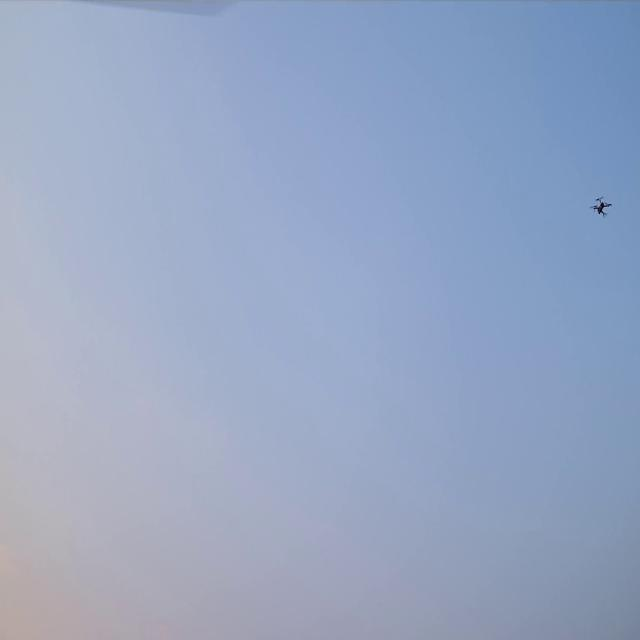UAV: (590, 195, 612, 218)
